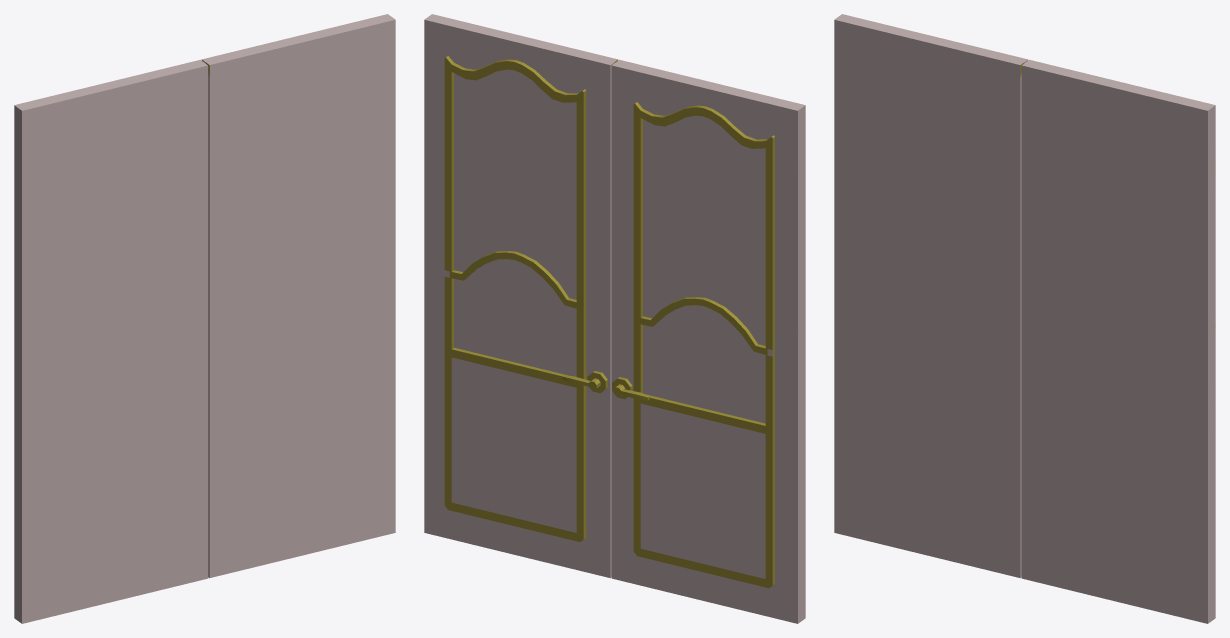
File: BgMD_room_door.fbx
3 views of the same model, side by side, from view 1: azimuth 30°, elevation 25°; view 2: azimuth 150°, elevation 25°; view 3: azimuth 330°, elevation 25° (orthographic).
Parts seen in each view (by area): view 1: BgMD_room_door_R, BgMD_room_door_L; view 2: BgMD_room_door_R, BgMD_room_door_L; view 3: BgMD_room_door_L, BgMD_room_door_R.
Boxes of the visible parts, x1=… form: BgMD_room_door_R: x1=14, y1=59, x2=208, y2=623; BgMD_room_door_L: x1=201, y1=14, x2=395, y2=578; BgMD_room_door_R: x1=611, y1=59, x2=805, y2=623; BgMD_room_door_L: x1=424, y1=14, x2=618, y2=578; BgMD_room_door_L: x1=1021, y1=59, x2=1215, y2=623; BgMD_room_door_R: x1=834, y1=14, x2=1028, y2=578.
Size of the model in its own units: 122 by 160 by 8.19.
